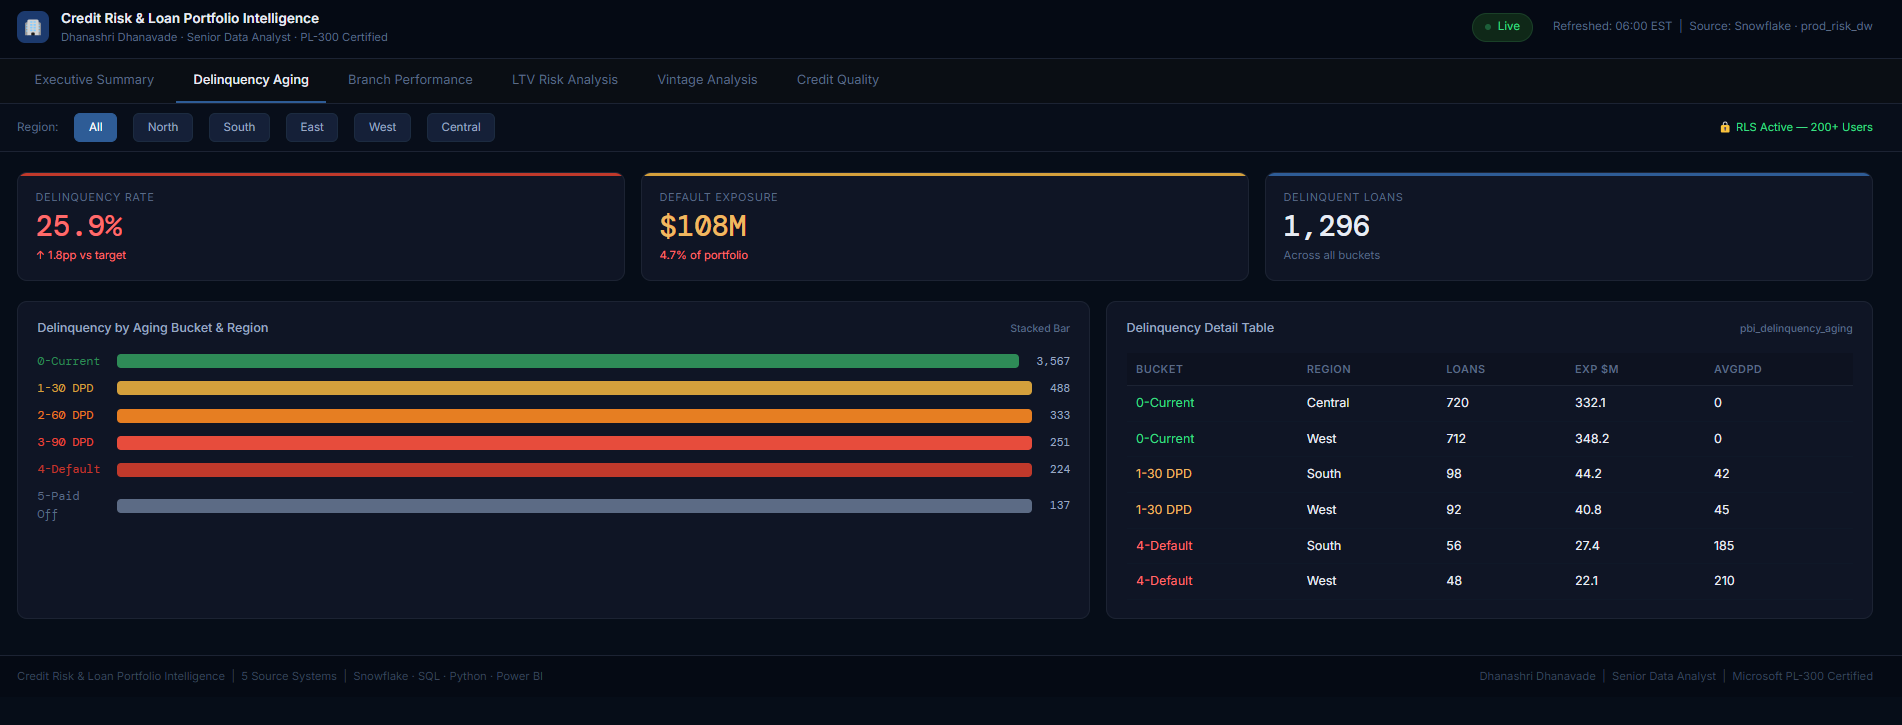

This screenshot's page, from the dashboard's own definition file:
{"tool":"powerbi","page":{"name":"Delinquency Aging","canvas":[1280,720],"ordinal":1},"visuals":[{"type":"textbox","box":[9.6,0,279.9,70],"z":0},{"type":"card","fields":{"Values":["pbi_master_loans.Delinquency Rate"]},"box":[211.4,117.1,279.4,149.8],"z":1},{"type":"card","fields":{"Values":["pbi_master_loans.Default Exposure $M"]},"box":[454.4,118.3,279.4,149.8],"z":2},{"type":"card","fields":{"Values":["pbi_master_loans.Total Loans"]},"box":[704.8,115.8,279.4,151],"z":3},{"type":"barChart","fields":{"Category":["pbi_master_loans.AgingBucket"],"Y":["CountNonNull(pbi_master_loans.LoanID)"],"Series":["pbi_master_loans.Region"]},"box":[994,116,279,151],"z":4},{"type":"tableEx","fields":{"Values":["pbi_delinquency_aging.AgingBucket","pbi_delinquency_aging.Region","pbi_delinquency_aging.BranchName","Sum(pbi_delinquency_aging.LoanCount)","Sum(pbi_delinquency_aging.Exposure_M)","Sum(pbi_delinquency_aging.AvgLTV)","Sum(pbi_delinquency_aging.AvgDPD)"]},"box":[10.1,372.5,601.6,245.4],"z":5},{"type":"slicer","fields":{"Values":["pbi_master_loans.Region"]},"box":[705,373,279,245],"z":6}]}

Visuals, with their boxes on the page's 1280x720 design canvas (x1, y1, x2, y2). These are canvas units, not pixel positions in the 1902x725 screenshot, which may show the page scaled, cropped or inside an application window:
textbox: x1=10, y1=0, x2=290, y2=70
card - pbi_master_loans.Delinquency Rate: x1=211, y1=117, x2=491, y2=267
card - pbi_master_loans.Default Exposure $M: x1=454, y1=118, x2=734, y2=268
card - pbi_master_loans.Total Loans: x1=705, y1=116, x2=984, y2=267
barChart - pbi_master_loans.AgingBucket x CountNonNull(pbi_master_loans.LoanID): x1=994, y1=116, x2=1273, y2=267
tableEx - pbi_delinquency_aging.AgingBucket x pbi_delinquency_aging.Region: x1=10, y1=372, x2=612, y2=618
slicer - pbi_master_loans.Region: x1=705, y1=373, x2=984, y2=618
